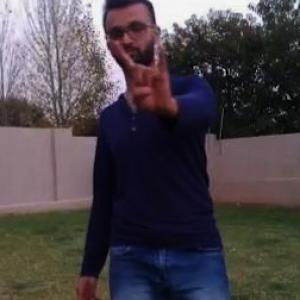takeoff-hand: (106, 34, 175, 122)
